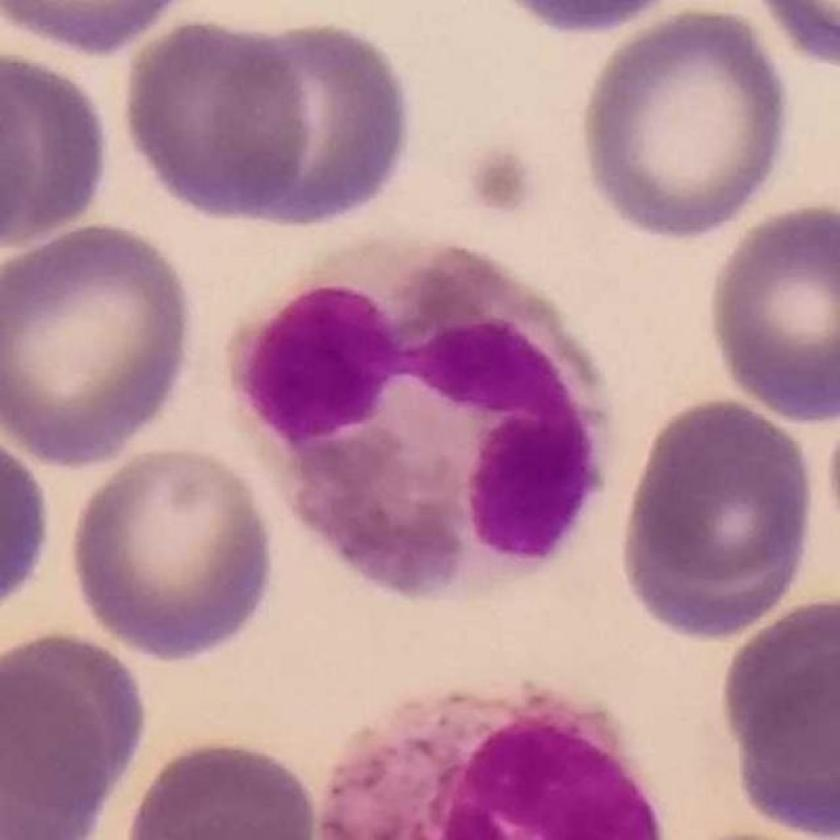eosinophil: (227, 216, 619, 610), (312, 640, 686, 840)
